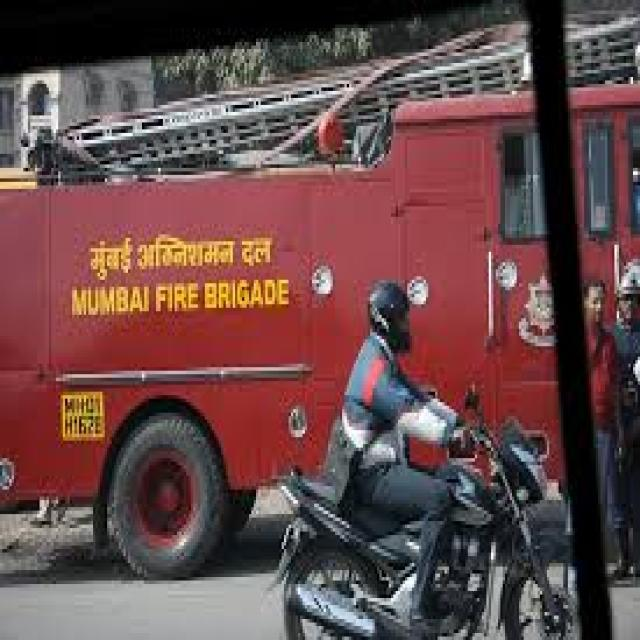Fire_brigade: (2, 60, 640, 458)
